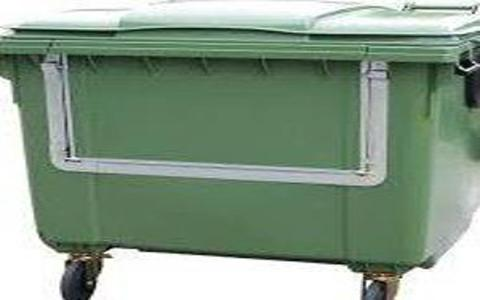Proper garbage: (3, 1, 479, 300)
